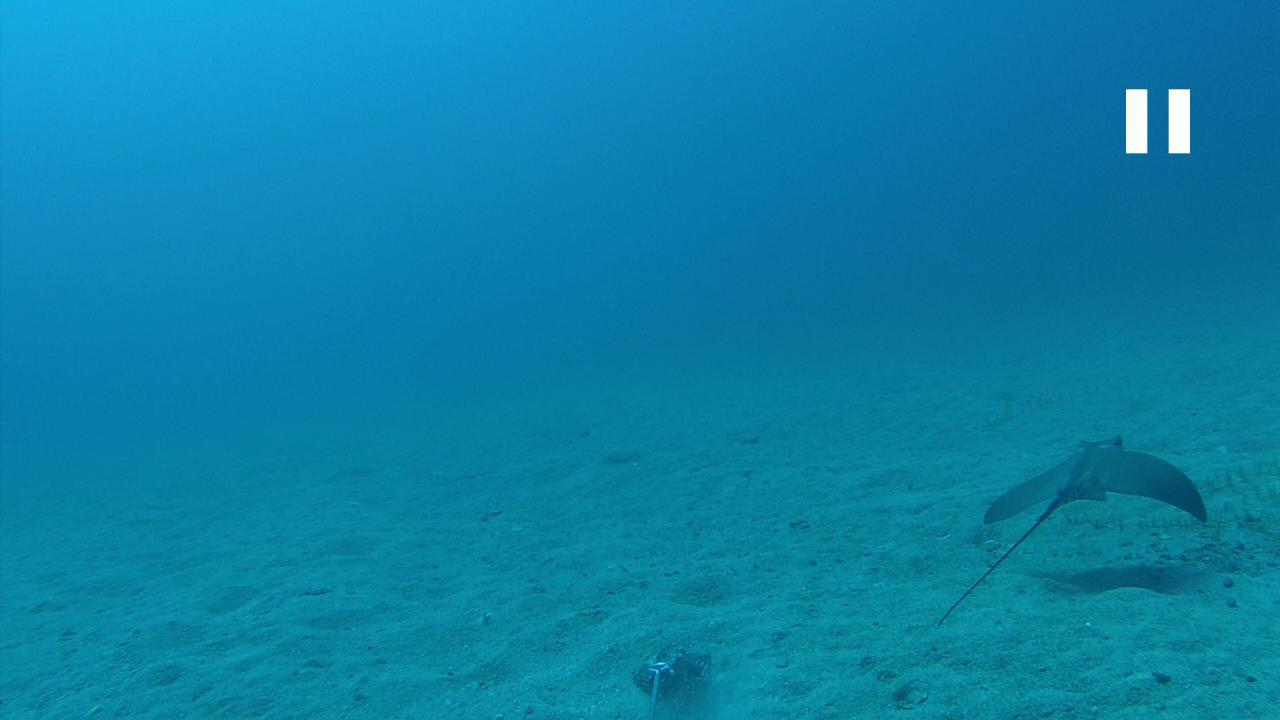dasyatis: (935, 432, 1208, 629)
